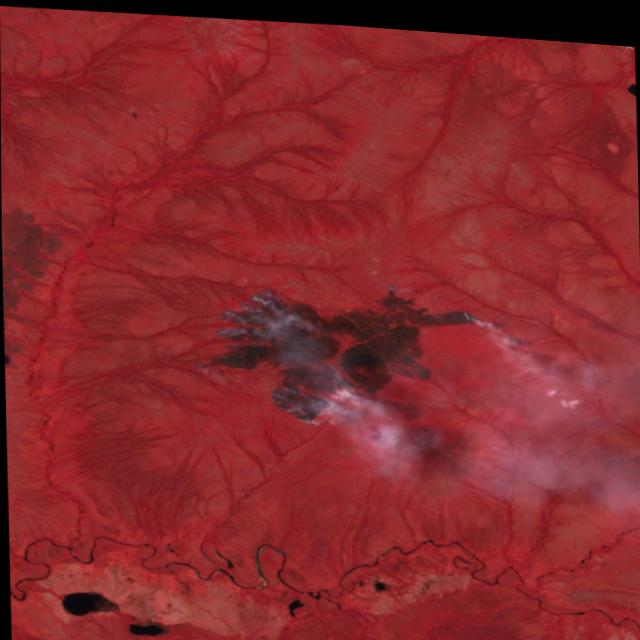fire: (182, 262, 486, 433)
